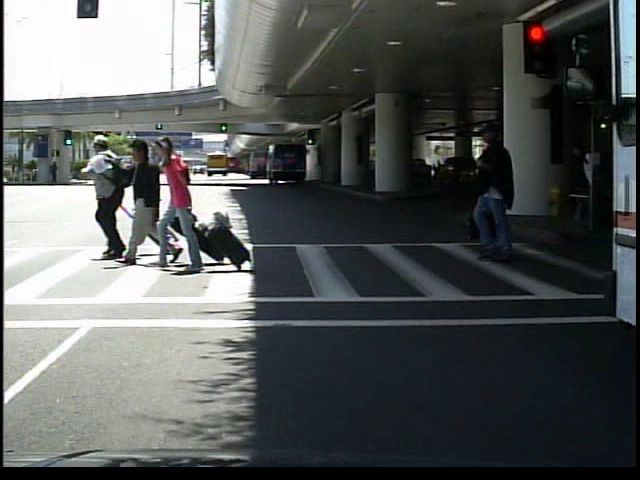person: (457, 114, 529, 265)
